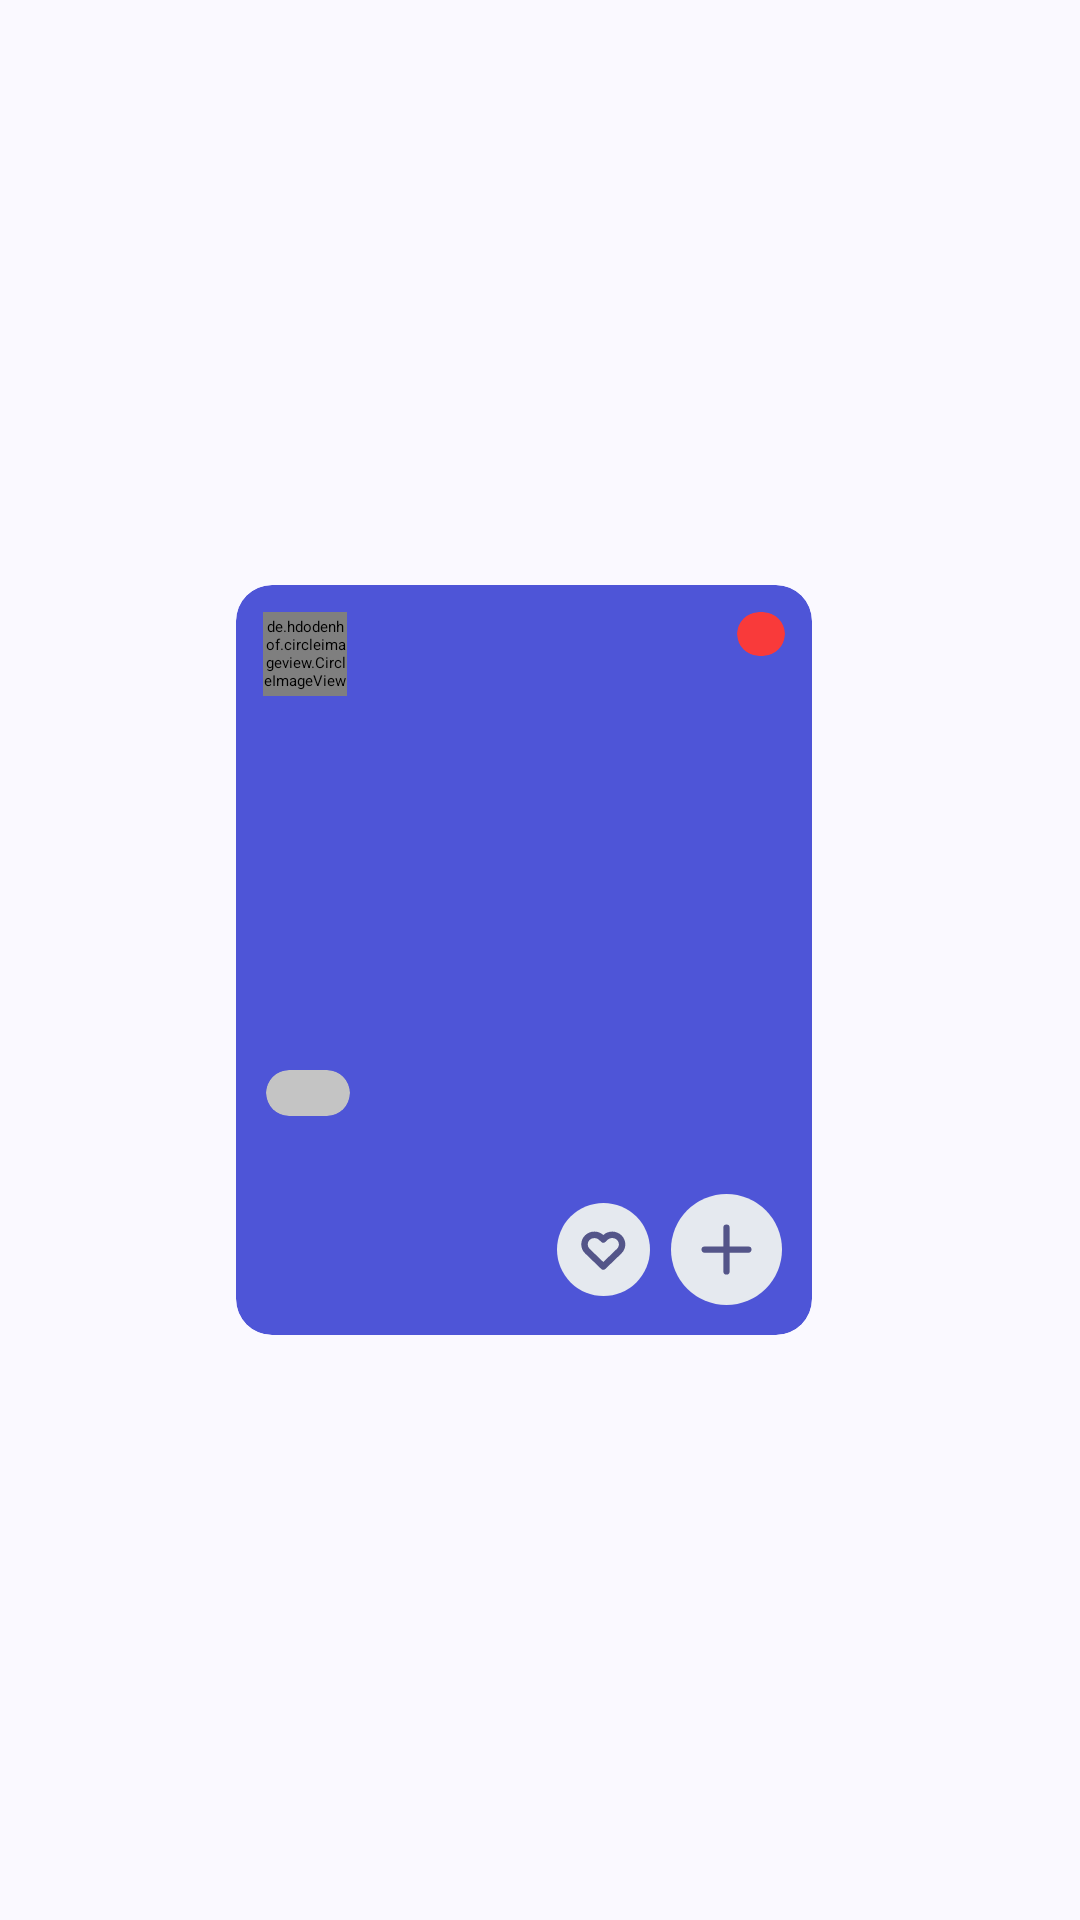

Icons on this 1080 × 1920 Android screen, each with the point to tap as (x,y):
add: (726,1249)
heart: (603,1250)
